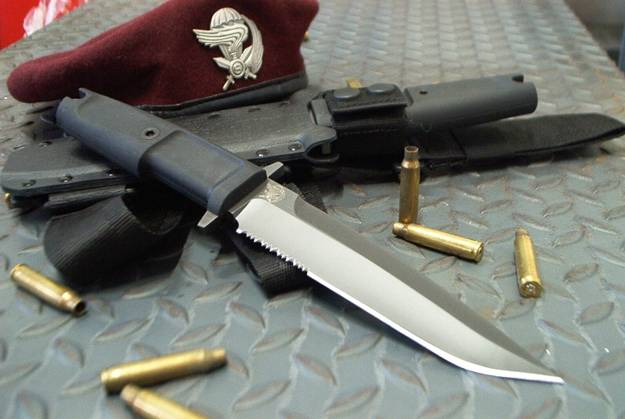knife: (56, 80, 567, 386)
